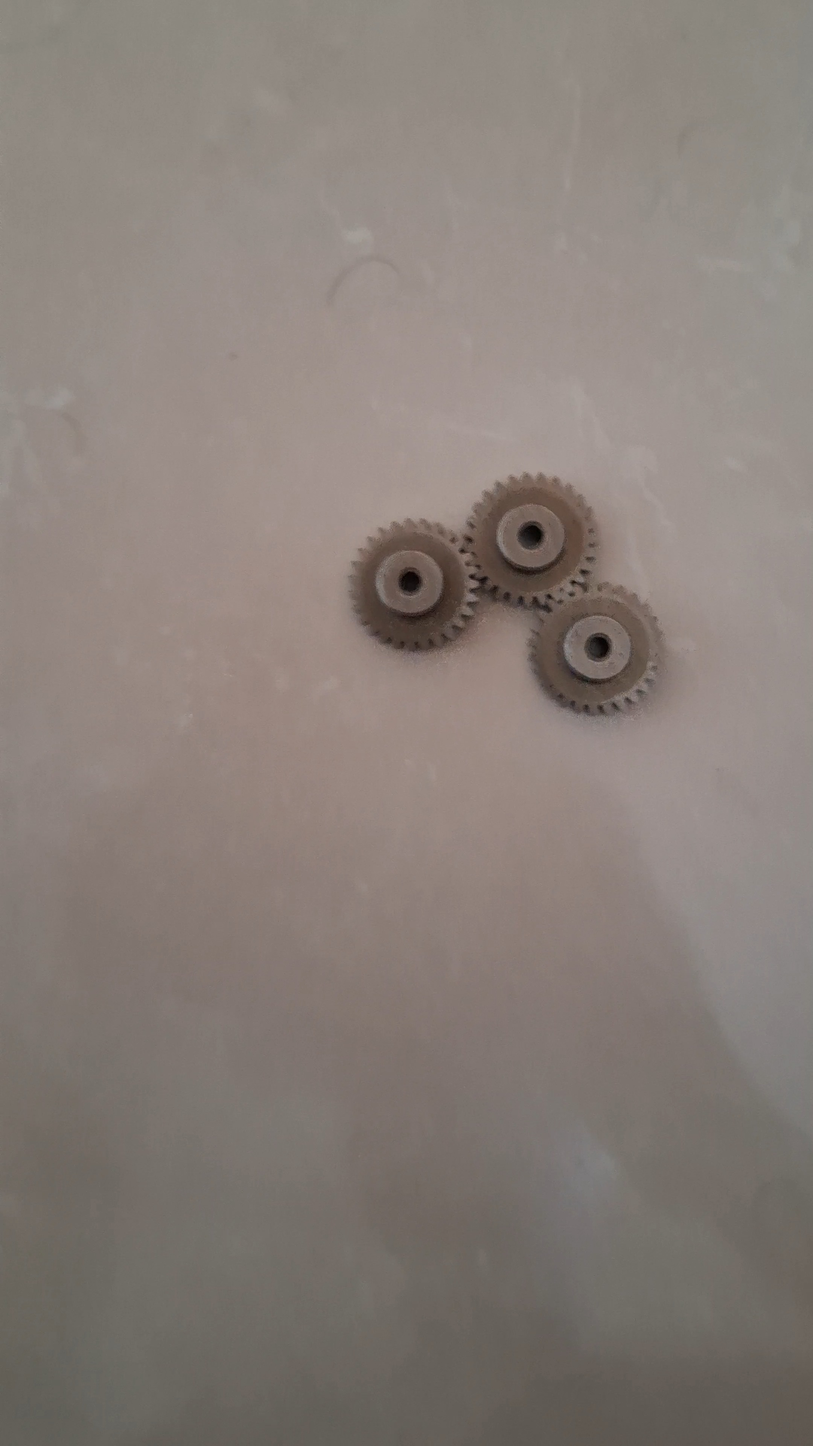spur gear: (459, 481, 592, 616), (527, 592, 658, 723), (343, 529, 472, 658)
